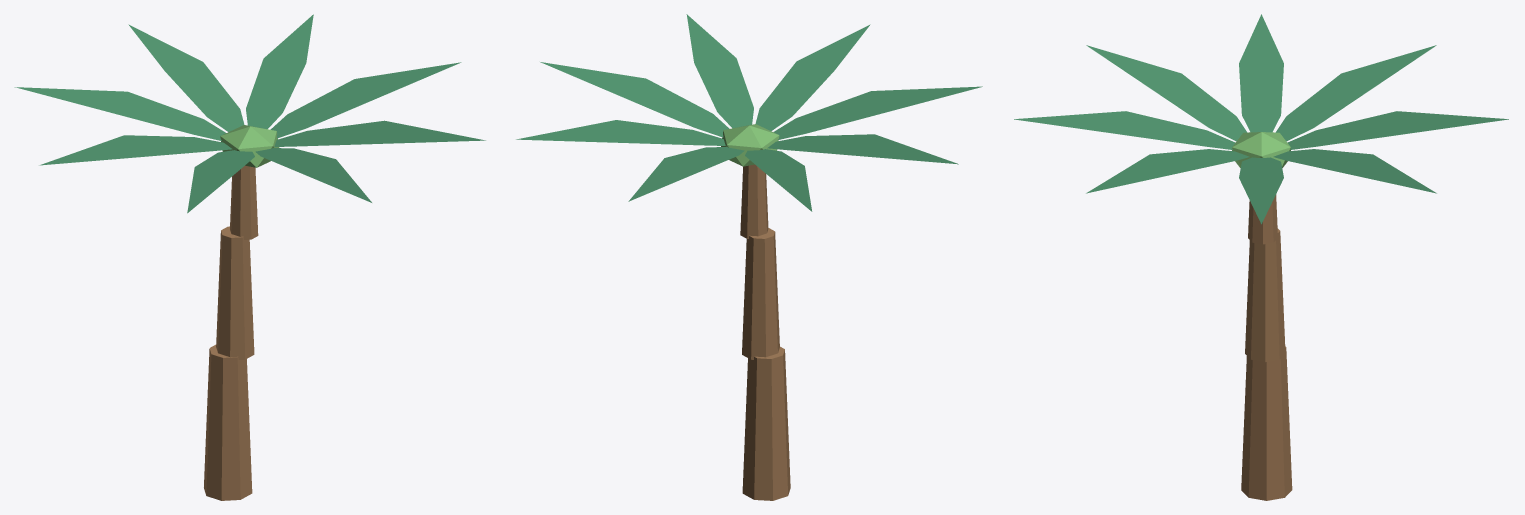
File: palmeira-beco.glb
The picture shows the model from 3 angles, left to right: view 1: azimuth 30°, elevation 25°; view 2: azimuth 150°, elevation 25°; view 3: azimuth 270°, elevation 25°; orthographic projection. The views are drawn at different scales.
Parts seen in each view (by area): view 1: Tronco_curvo_0, Tronco_curvo_1, Folha_palmeira_7, Folha_palmeira_0, Folha_palmeira_6, Folha_palmeira_1, Folha_palmeira_5, Folha_palmeira_2, Folha_palmeira_4, Folha_palmeira_3, Tronco_curvo_2, Miolo_da_palmeira; view 2: Tronco_curvo_0, Tronco_curvo_1, Folha_palmeira_5, Folha_palmeira_4, Folha_palmeira_6, Folha_palmeira_3, Folha_palmeira_7, Folha_palmeira_2, Folha_palmeira_0, Folha_palmeira_1, Tronco_curvo_2, Miolo_da_palmeira; view 3: Tronco_curvo_0, Tronco_curvo_1, Folha_palmeira_2, Folha_palmeira_1, Folha_palmeira_3, Folha_palmeira_0, Folha_palmeira_4, Folha_palmeira_5, Folha_palmeira_7, Folha_palmeira_6, Miolo_da_palmeira, Tronco_curvo_2.
Boxes of the visible parts, x1=… form: Tronco_curvo_0: x1=204, y1=344, x2=252, y2=500; Tronco_curvo_1: x1=216, y1=226, x2=254, y2=359; Folha_palmeira_7: x1=246, y1=14, x2=313, y2=129; Folha_palmeira_0: x1=128, y1=24, x2=244, y2=131; Folha_palmeira_6: x1=270, y1=62, x2=461, y2=138; Folha_palmeira_1: x1=14, y1=87, x2=226, y2=140; Folha_palmeira_5: x1=274, y1=120, x2=485, y2=146; Folha_palmeira_2: x1=39, y1=135, x2=232, y2=165; Folha_palmeira_4: x1=255, y1=148, x2=371, y2=202; Folha_palmeira_3: x1=187, y1=150, x2=254, y2=213; Tronco_curvo_2: x1=230, y1=165, x2=258, y2=239; Miolo_da_palmeira: x1=220, y1=125, x2=279, y2=167; Tronco_curvo_0: x1=742, y1=346, x2=790, y2=500; Tronco_curvo_1: x1=742, y1=228, x2=779, y2=359; Folha_palmeira_5: x1=686, y1=14, x2=753, y2=128; Folha_palmeira_4: x1=755, y1=24, x2=870, y2=131; Folha_palmeira_6: x1=540, y1=62, x2=729, y2=137; Folha_palmeira_3: x1=773, y1=86, x2=982, y2=139; Folha_palmeira_7: x1=516, y1=120, x2=725, y2=145; Folha_palmeira_2: x1=767, y1=134, x2=958, y2=164; Folha_palmeira_0: x1=628, y1=147, x2=744, y2=201; Folha_palmeira_1: x1=745, y1=149, x2=812, y2=211; Tronco_curvo_2: x1=740, y1=164, x2=768, y2=238; Miolo_da_palmeira: x1=721, y1=124, x2=779, y2=166; Tronco_curvo_0: x1=1241, y1=346, x2=1292, y2=500; Tronco_curvo_1: x1=1245, y1=228, x2=1285, y2=362; Folha_palmeira_2: x1=1239, y1=14, x2=1283, y2=132; Folha_palmeira_1: x1=1275, y1=45, x2=1436, y2=141; Folha_palmeira_3: x1=1086, y1=45, x2=1247, y2=141; Folha_palmeira_0: x1=1287, y1=111, x2=1508, y2=149; Folha_palmeira_4: x1=1014, y1=111, x2=1235, y2=149; Folha_palmeira_5: x1=1086, y1=149, x2=1249, y2=193; Folha_palmeira_7: x1=1273, y1=149, x2=1436, y2=193; Folha_palmeira_6: x1=1239, y1=157, x2=1283, y2=224; Miolo_da_palmeira: x1=1232, y1=132, x2=1290, y2=167; Tronco_curvo_2: x1=1248, y1=194, x2=1277, y2=244.
Size of the model in its own units: 6.62 by 5.59 by 6.62.
